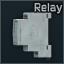Phase control relay: (0, 0, 64, 64)
